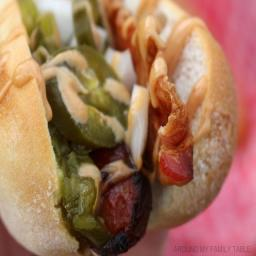hotdog: (0, 0, 239, 256)
